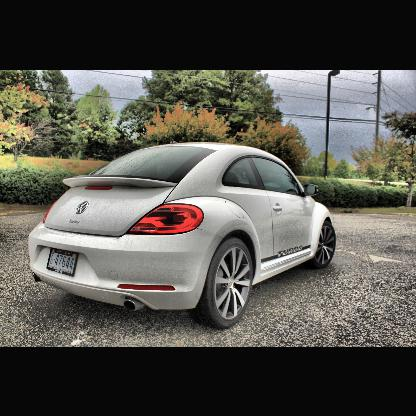Volkswagen Beetle Hatchback 2012: (28, 140, 336, 328)
